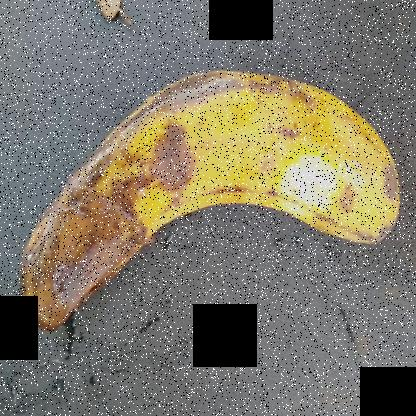rotten: (19, 54, 401, 342)
